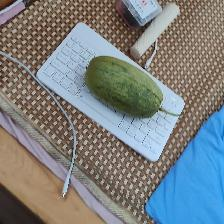gua: (86, 65, 168, 116)
